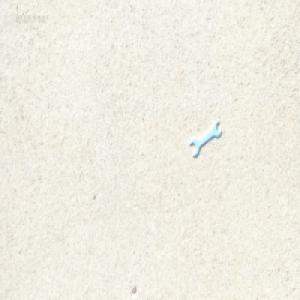Wrench: (189, 122, 220, 158)
